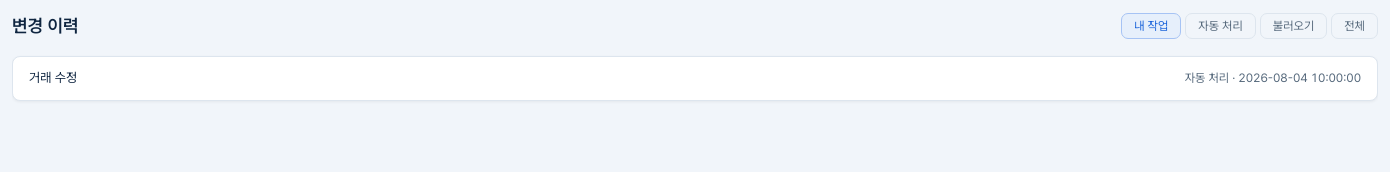
Scenario: D. 되돌리기 버튼 › D-2. 시스템 작업에는 버튼을 내지 않는다
What coordinates should you click on to do the following:
click the button "거래 수정 자동 처리 · 2026-08-04 10:00:00"
I would click on:
 (53, 78)
Its box is 29,69 -> 1361,88.
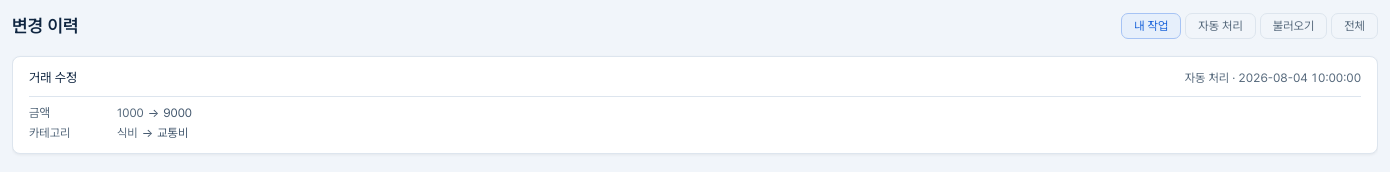
Result: the text "금액" is shown at 29,106 -> 50,120
